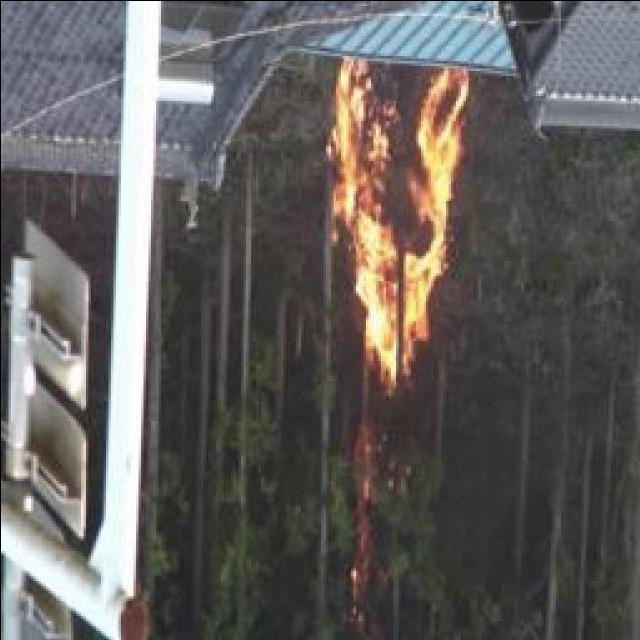Fire: (313, 56, 468, 388)
